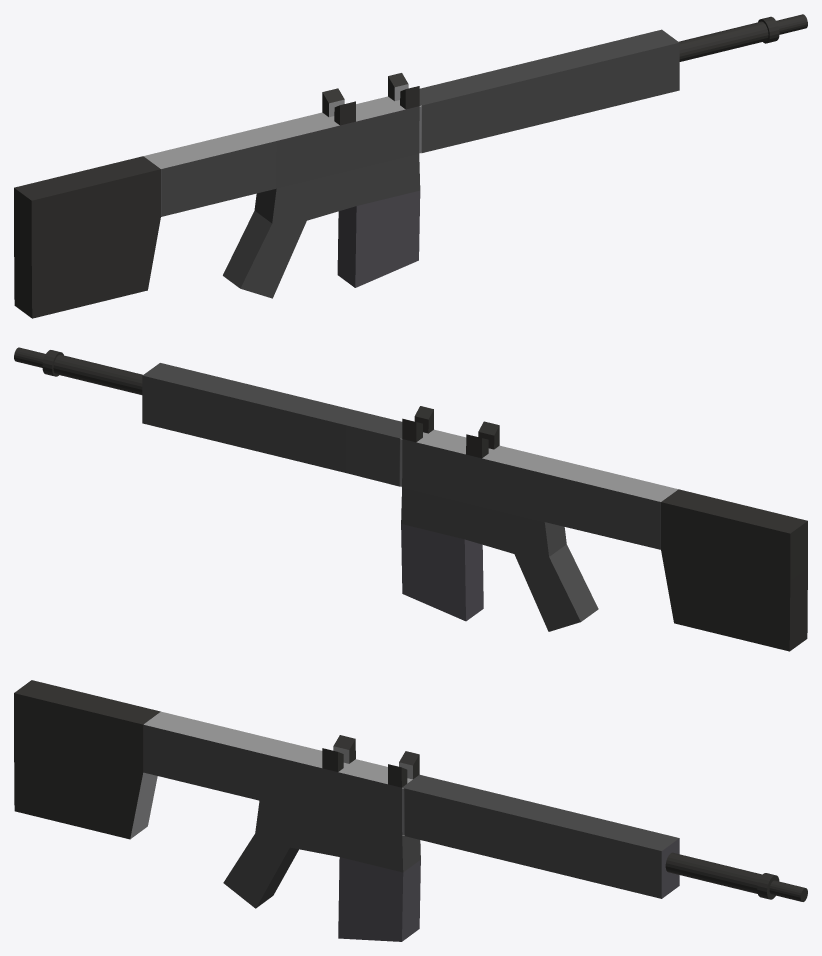
File: Sniper_model.glb
3 renders of one model, top to bottom at view 1: azimuth 30°, elevation 25°; view 2: azimuth 150°, elevation 25°; view 3: azimuth 330°, elevation 25°, orthographic.
Visible parts, largest first — view 1: Plane; view 2: Plane; view 3: Plane.
Part boxes in pixels (x1,y1,x2,y2): Plane: (14,14,807,318); Plane: (14,347,807,651); Plane: (14,680,807,941).
Size of the model in its own units: 4.97 by 1.14 by 0.1994.
1 material, 1 textured.
